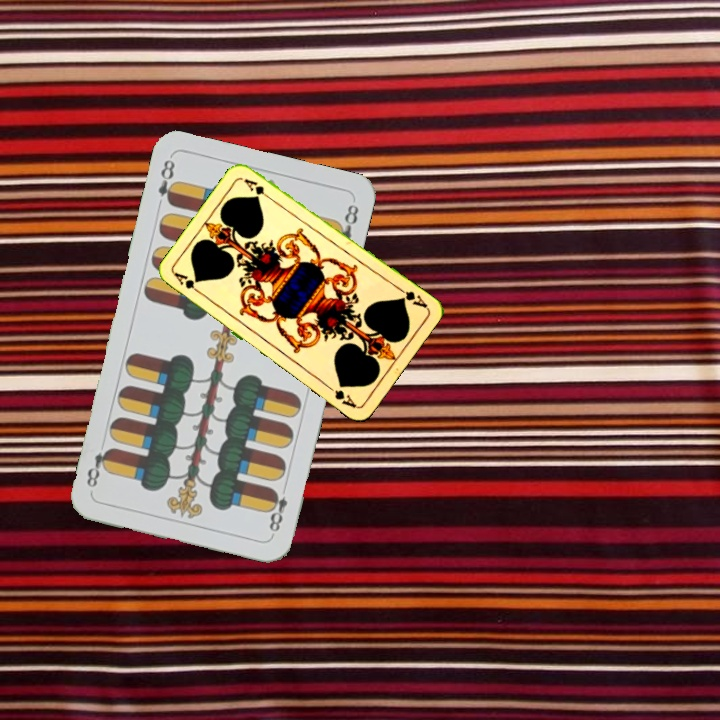E8: (264, 485, 290, 538), (154, 155, 180, 208)
GA: (170, 268, 206, 298), (393, 283, 430, 311)
